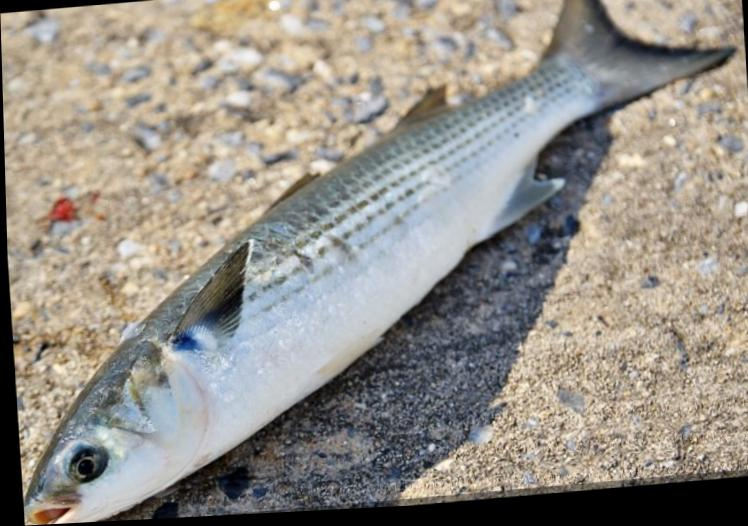fish: (21, 0, 734, 526)
